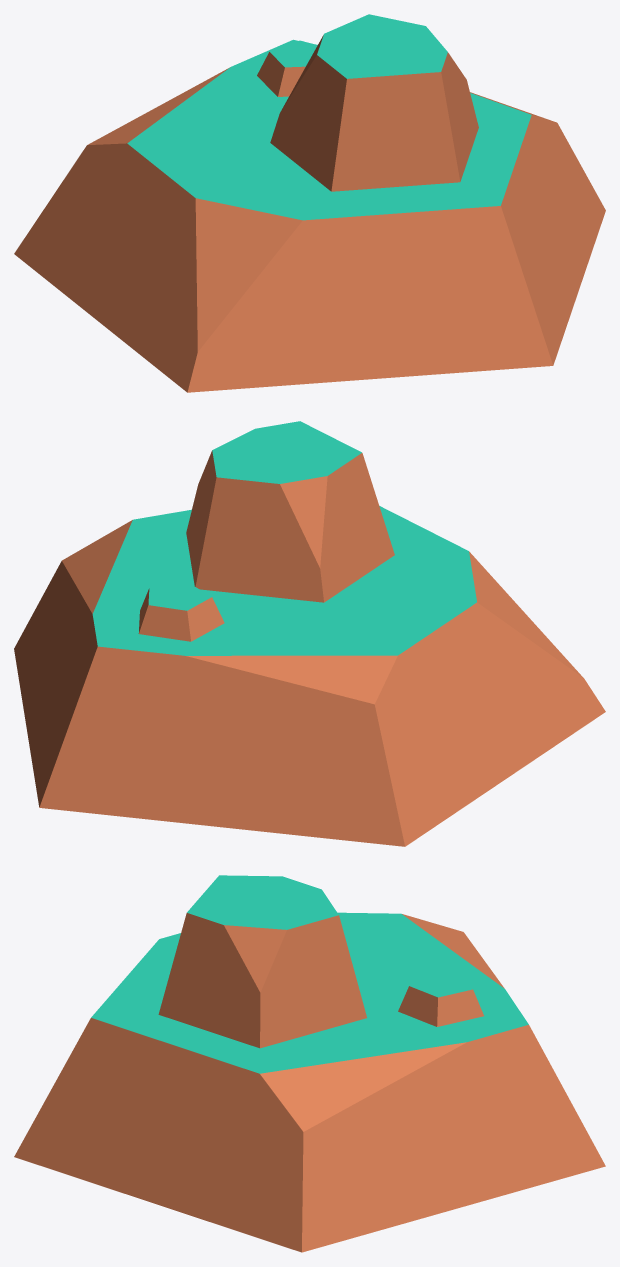
Rendered from rock_smallTopB.fbx.
The picture shows the model from 3 angles, top to bottom: view 1: azimuth 30°, elevation 25°; view 2: azimuth 150°, elevation 25°; view 3: azimuth 270°, elevation 25°; orthographic projection. The views are drawn at different scales.
Parts seen in each view (by area): view 1: rock_smallTopB; view 2: rock_smallTopB; view 3: rock_smallTopB.
Part boxes in pixels (left/top/right/bottom): rock_smallTopB: left=14, top=14, right=605, bottom=392; rock_smallTopB: left=14, top=421, right=605, bottom=846; rock_smallTopB: left=14, top=875, right=605, bottom=1252.
Size of the model in its own units: 6.22 by 2.8 by 6.46.
